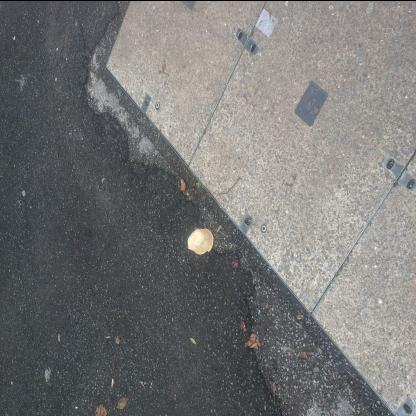plastik: (187, 227, 214, 254)
